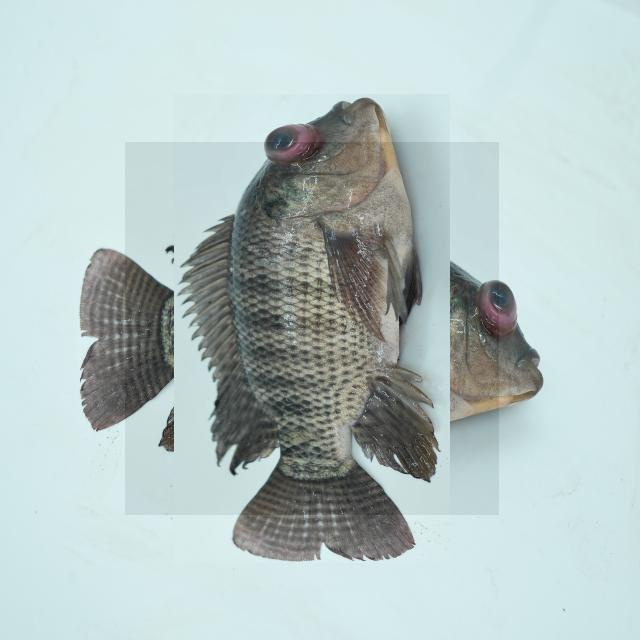streptococcus Disease: (125, 142, 499, 515)
